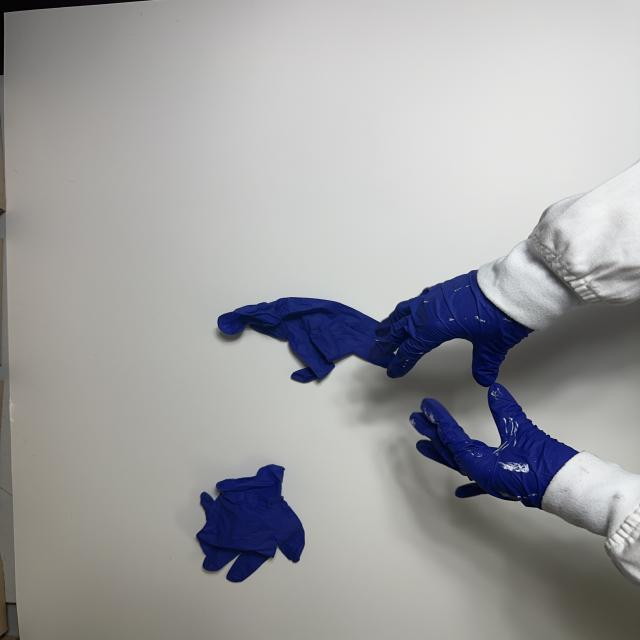gloves_contaminated: (412, 384, 578, 508), (371, 270, 533, 386)
